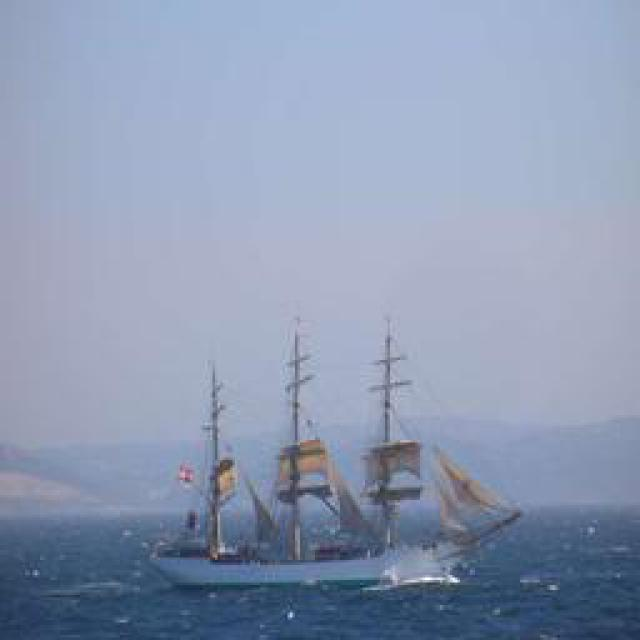Ship: (144, 321, 529, 594)
